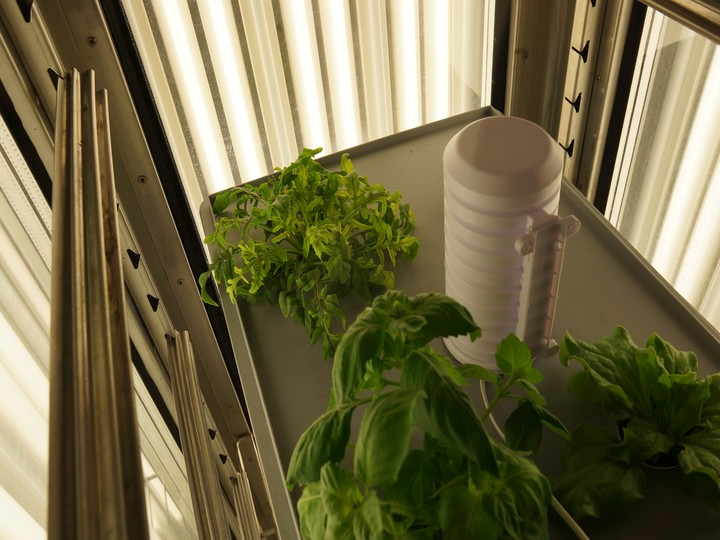basilic_blue_spice: (292, 287, 565, 540)
ficoide_glaciale: (559, 314, 720, 519)
roquette_sauvage_red_veined: (188, 136, 429, 344)
